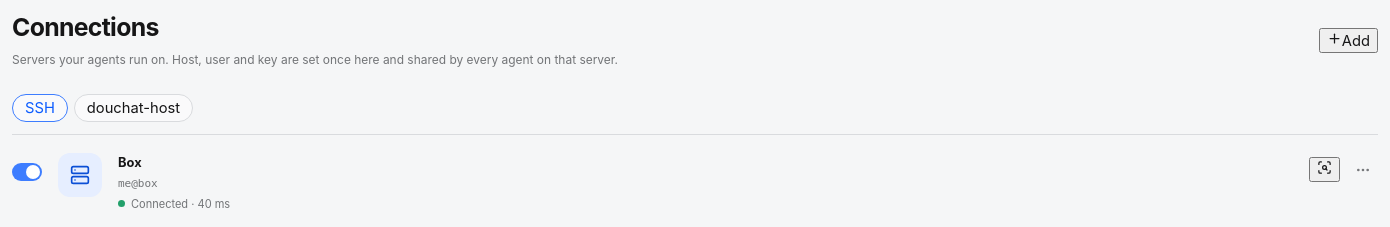
Test: shows status and toggles a connection off
Expected: the message "Connected · 40 ms" is shown, [118,197,230,211]
Click the switch named "Enabled Box". click: (27, 172)
box: [12,163,42,181]
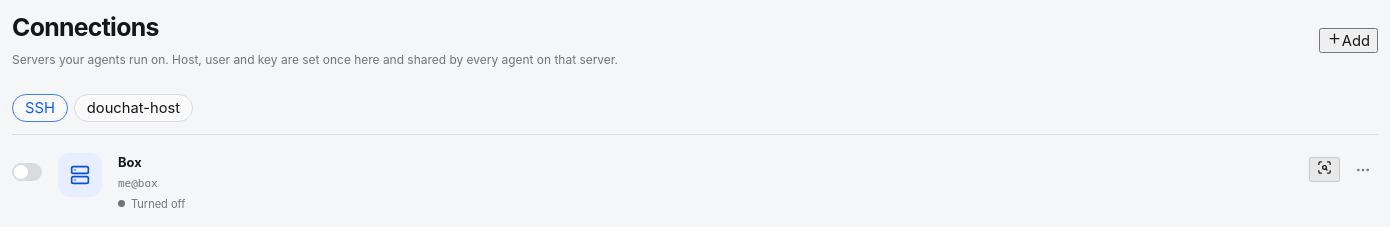
Expected: the message "Turned off" is shown, [118,197,185,211]
